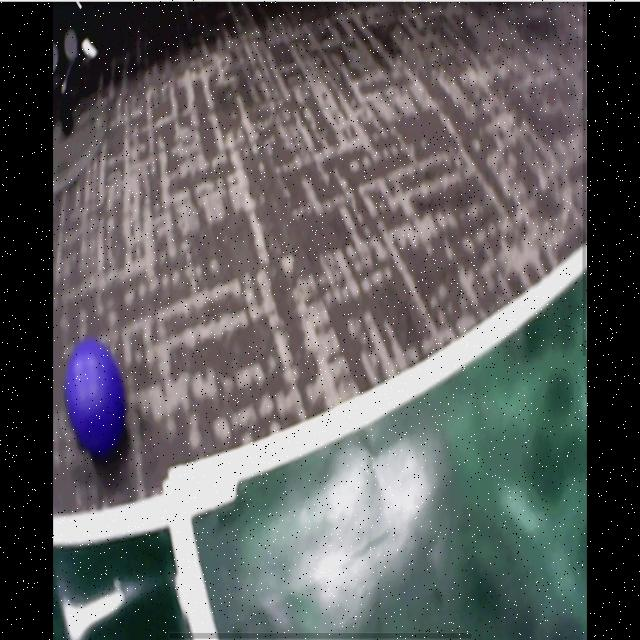ball: (65, 337, 127, 454)
